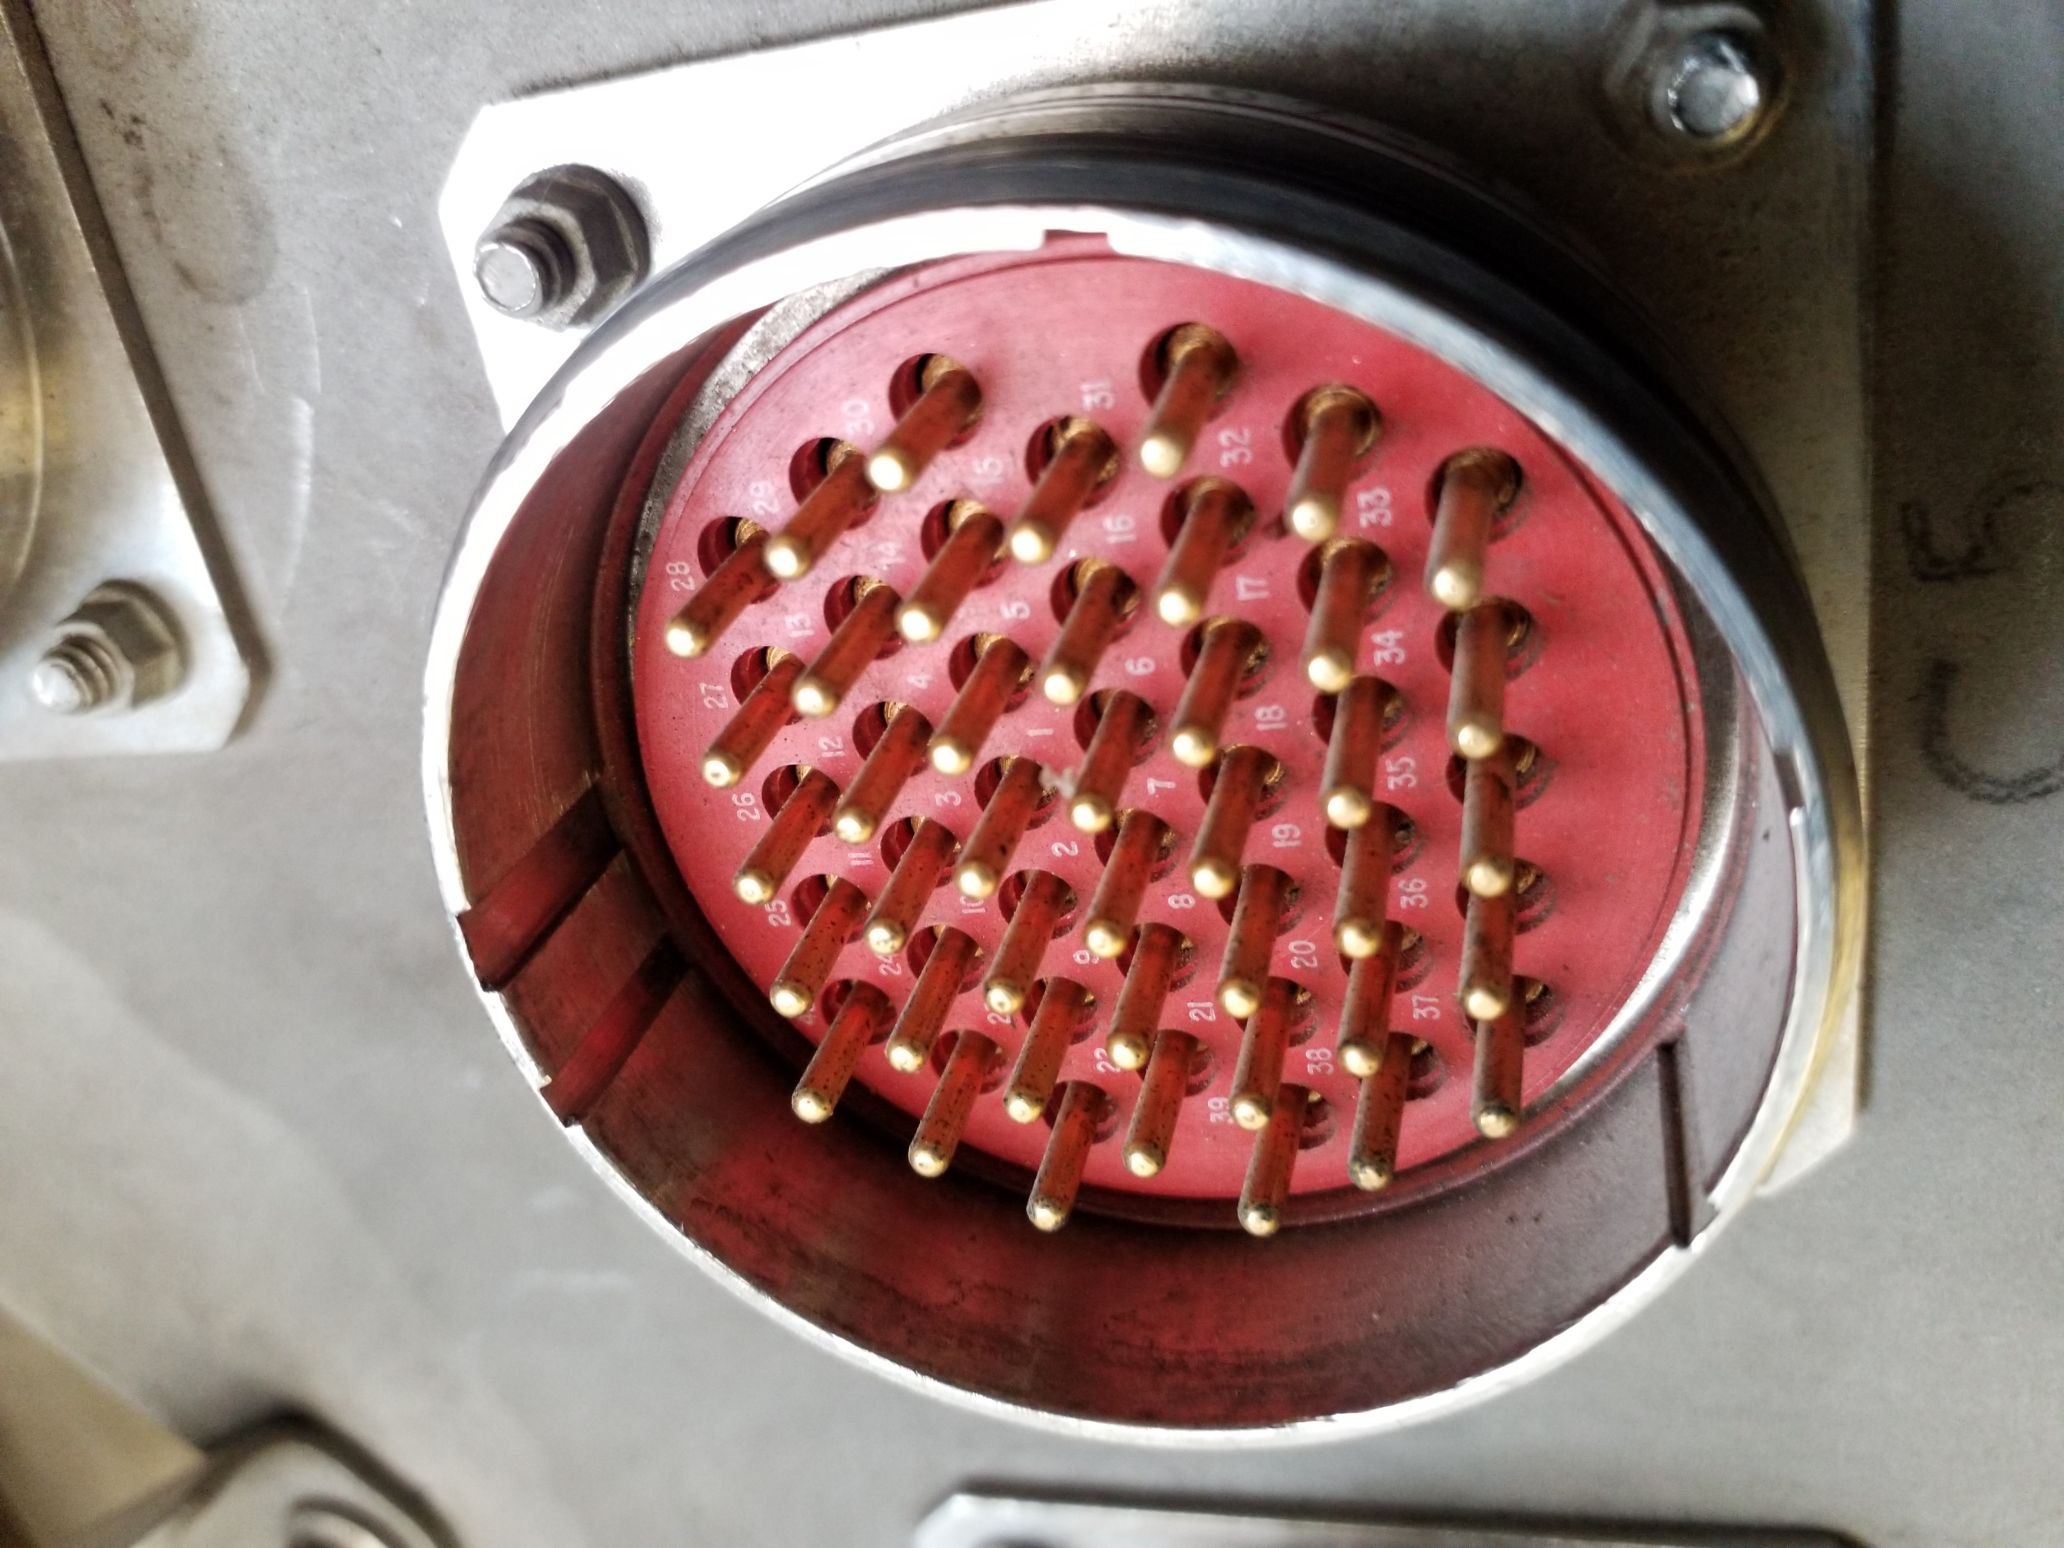outlet: (416, 93, 1841, 1441)
